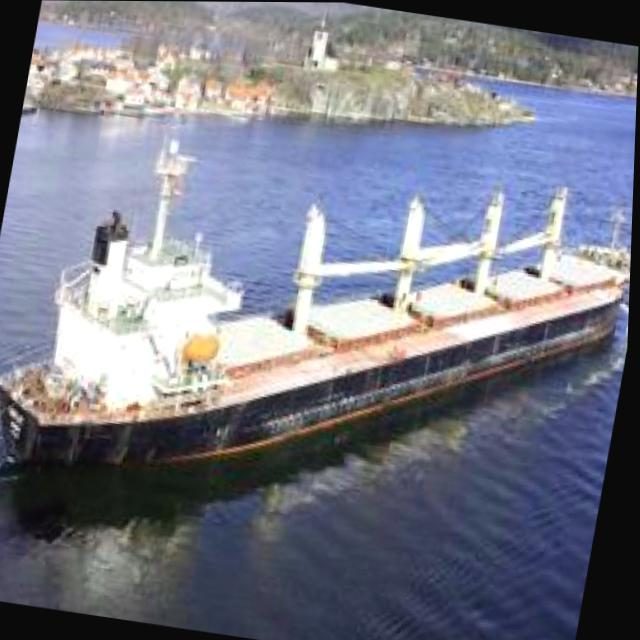ship2: (0, 143, 633, 502)
